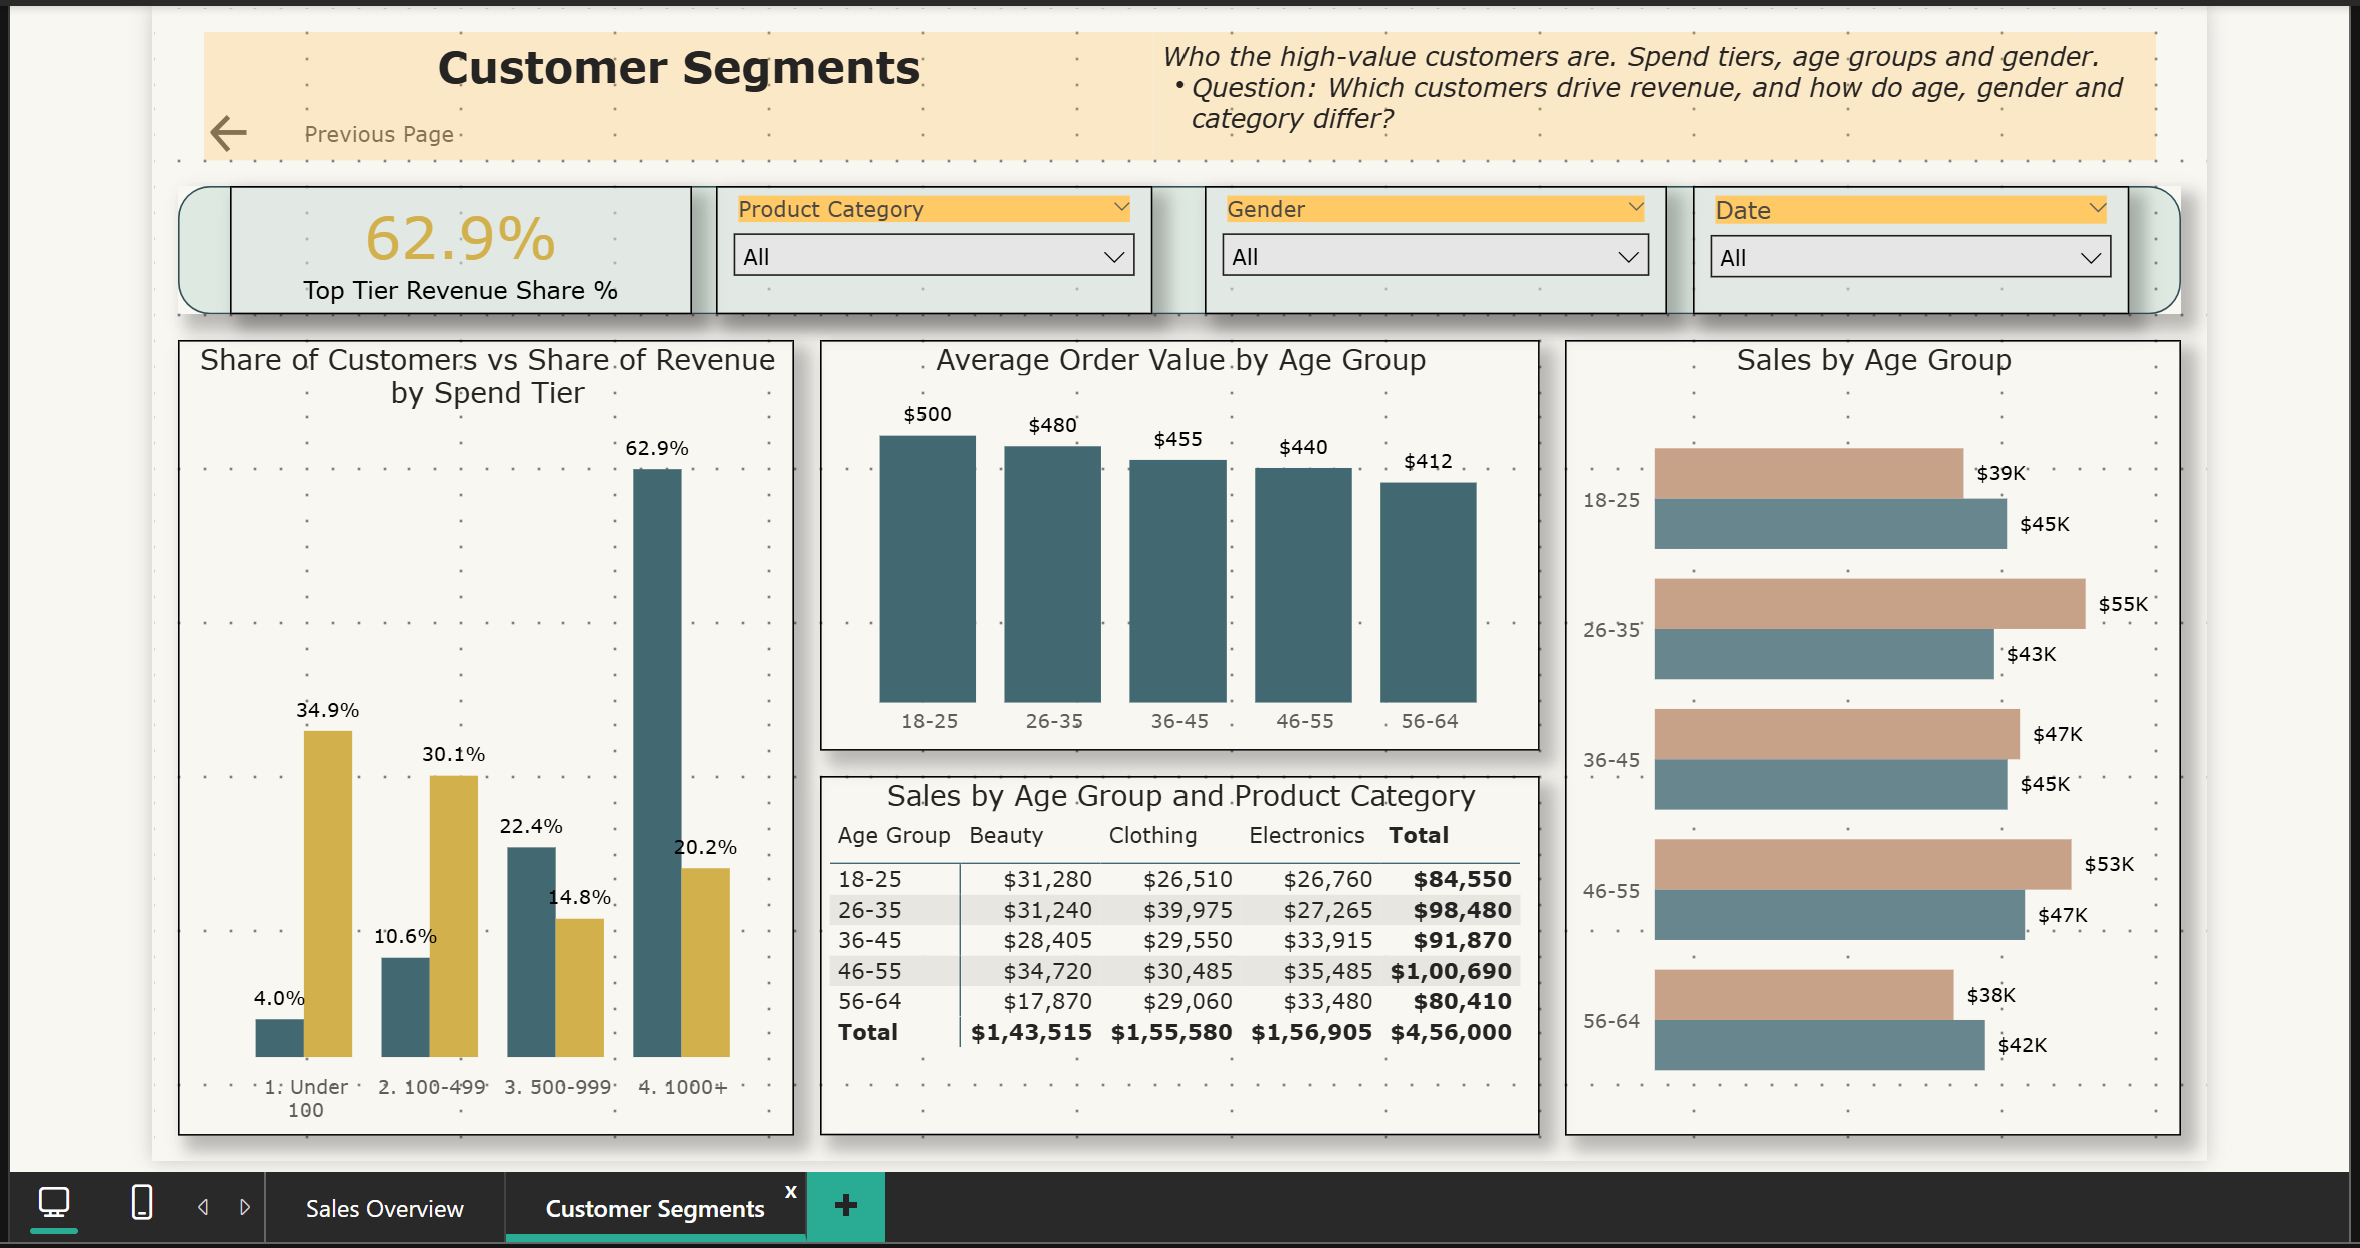

This screenshot's page, from the dashboard's own definition file:
{"tool":"powerbi","page":{"name":"Customer Segments","canvas":[1280,720],"ordinal":1},"visuals":[{"type":"shape","box":[16,112,1248,80],"z":0},{"type":"card","fields":{"Values":["Measures Table.Top Tier Revenue Share %"]},"box":[48,112,288,80],"z":1000},{"type":"slicer","fields":{"Values":["Retail_sales.Date.Variation.Date Hierarchy.Year","Retail_sales.Date.Variation.Date Hierarchy.Quarter","Retail_sales.Date.Variation.Date Hierarchy.Month","Retail_sales.Date.Variation.Date Hierarchy.Day"]},"box":[960,112,272,80],"z":2000},{"type":"slicer","fields":{"Values":["Retail_sales.Product Category"]},"box":[352,112,272,80],"z":3000},{"type":"clusteredBarChart","title":"Sales by Age Group","fields":{"Category":["Retail_sales.Age Group"],"Y":["Measures Table.Total Sales"],"Series":["Retail_sales.Gender"]},"box":[880,208,384,496],"z":4000},{"type":"clusteredColumnChart","title":"Share of Customers vs Share of Revenue by Spend Tier","fields":{"Category":["Retail_sales.Spend Tier"],"Y":["Measures Table.Share of Revenue %","Measures Table.Share of Transactions %"]},"box":[16,208,384,496],"z":5000},{"type":"actionButton","box":[32,64,160,32],"z":6000},{"type":"slicer","fields":{"Values":["Retail_sales.Gender"]},"box":[656,112,288,80],"z":7000},{"type":"pivotTable","title":"Sales by Age Group and Product Category","fields":{"Rows":["Retail_sales.Age Group"],"Columns":["Retail_sales.Product Category"],"Values":["Measures Table.Total Sales"]},"box":[416,480,448,224],"z":8000},{"type":"columnChart","title":"Average Order Value by Age Group","fields":{"Category":["Retail_sales.Age Group"],"Y":["Measures Table.Avg Order Value"]},"box":[416,208,448,256],"z":9000},{"type":"textbox","box":[32,16,592,80],"z":10000},{"type":"textbox","box":[624,16,624,80],"z":11000}]}

Visuals, with their boxes on the page's 1280x720 design canvas (x1, y1, x2, y2). These are canvas units, not pixel positions in the 2360x1248 screenshot, which may show the page scaled, cropped or inside an application window:
shape: <box>16,112,1264,192</box>
card - Measures Table.Top Tier Revenue Share %: <box>48,112,336,192</box>
slicer - Retail_sales.Date.Variation.Date Hierarchy.Year x Retail_sales.Date.Variation.Date Hierarchy.Quarter: <box>960,112,1232,192</box>
slicer - Retail_sales.Product Category: <box>352,112,624,192</box>
"Sales by Age Group" clusteredBarChart: <box>880,208,1264,704</box>
"Share of Customers vs Share of Revenue by Spend Tier" clusteredColumnChart: <box>16,208,400,704</box>
actionButton: <box>32,64,192,96</box>
slicer - Retail_sales.Gender: <box>656,112,944,192</box>
"Sales by Age Group and Product Category" pivotTable: <box>416,480,864,704</box>
"Average Order Value by Age Group" columnChart: <box>416,208,864,464</box>
textbox: <box>32,16,624,96</box>
textbox: <box>624,16,1248,96</box>
